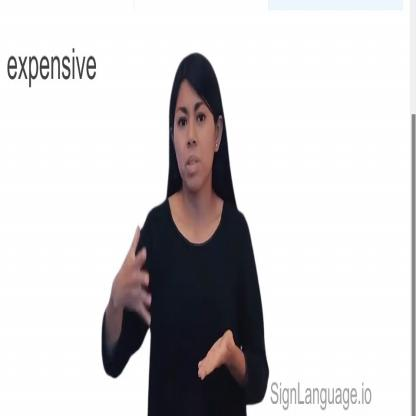Expensive: (118, 214, 244, 394)
